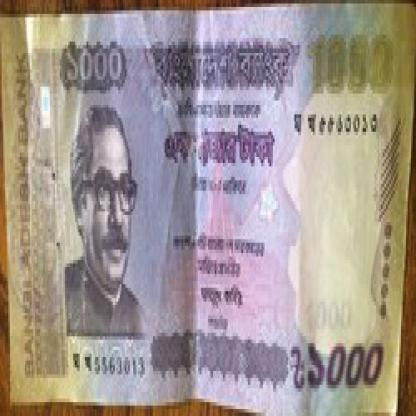One Thousand taka: (304, 35, 394, 94), (286, 340, 388, 392), (57, 42, 130, 94), (303, 298, 353, 333)
